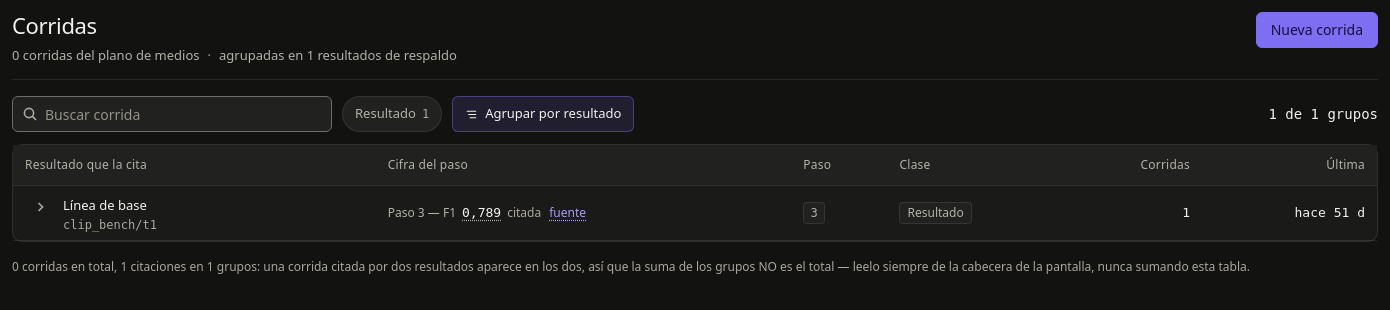
Corridas agrupadas: expansión y subtabla accesibles › la cifra citada dice que es citada y su fuente se abre con un botón
Check: the text "citada" is shown, box [507,204,541,221]
Click the button with aria-label "Fuente de la cifra 0,789" at (568, 213), box [547,204,588,222]
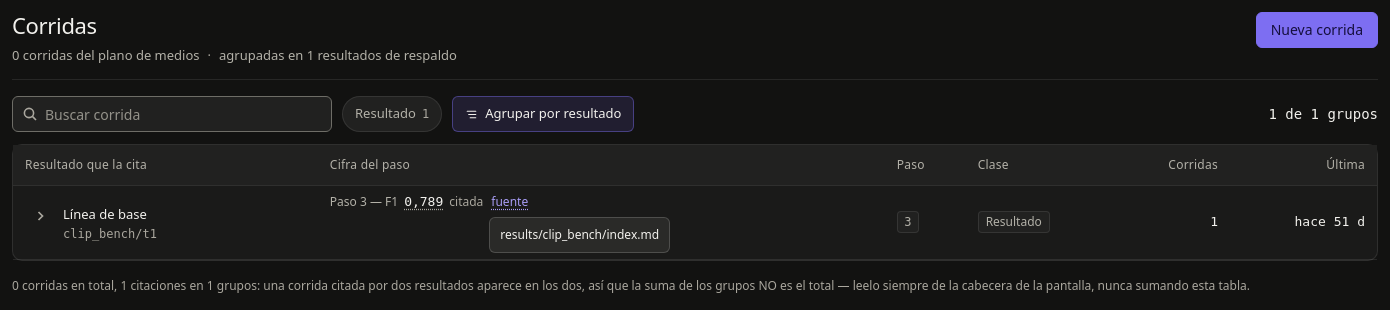
Check: the message reads "results/clip_bench/index.md", box [500,226,659,242]
